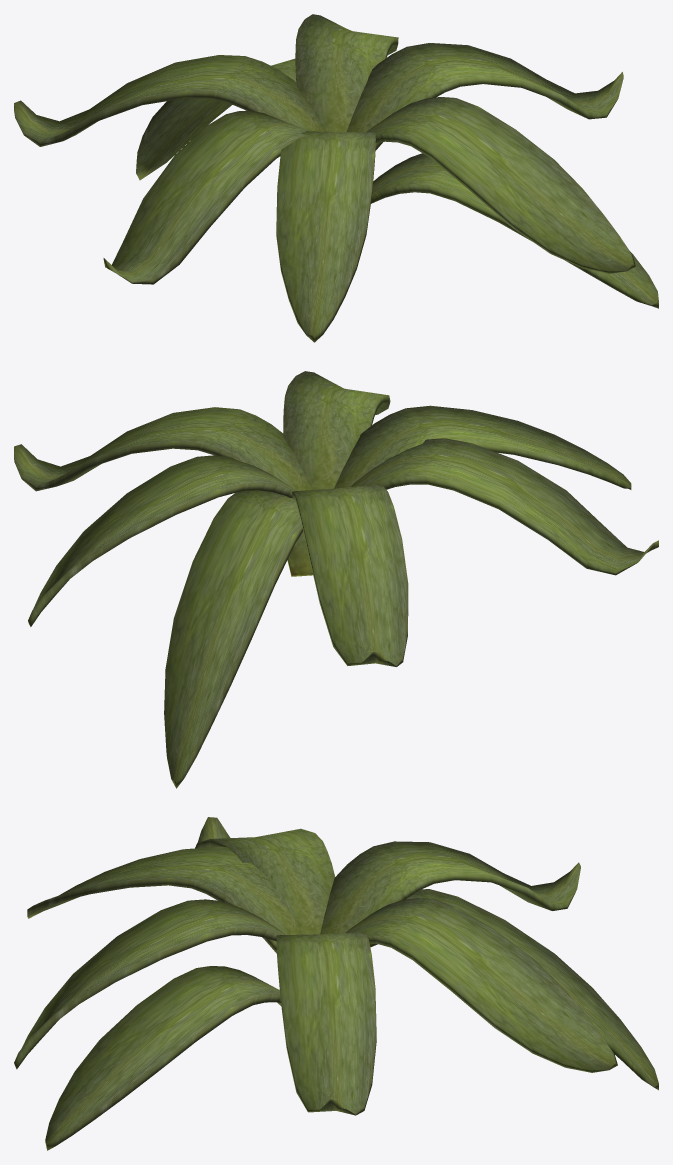
File: calyx8_1001.dae
3 renders of one model, top to bottom at view 1: azimuth 30°, elevation 25°; view 2: azimuth 150°, elevation 25°; view 3: azimuth 270°, elevation 25°, orthographic.
Parts seen in each view (by area): view 1: calyx8, calyx6_001, calyx7_003, calyx7_002, calyx7, calyx8_001, calyx6, calyx9; view 2: calyx9, calyx7_002, calyx7_003, calyx7, calyx8_001, calyx6_001, calyx8, calyx6; view 3: calyx8_001, calyx7, calyx6, calyx7_002, calyx8, calyx6_001, calyx7_003, calyx9.
Part boxes in pixels (x1,y1,x2,y2): calyx8: [366, 97, 635, 273]; calyx6_001: [276, 131, 375, 342]; calyx7_003: [103, 110, 310, 284]; calyx7_002: [14, 55, 324, 146]; calyx7: [346, 43, 623, 150]; calyx8_001: [295, 14, 398, 131]; calyx6: [371, 153, 658, 308]; calyx9: [136, 58, 296, 180]; calyx9: [164, 490, 302, 788]; calyx7_002: [292, 484, 408, 666]; calyx7_003: [351, 438, 658, 575]; calyx7: [14, 407, 312, 491]; calyx8_001: [28, 455, 296, 626]; calyx6_001: [334, 405, 631, 489]; calyx8: [283, 371, 390, 489]; calyx6: [287, 531, 312, 576]; calyx8_001: [345, 898, 617, 1072]; calyx7: [276, 932, 376, 1115]; calyx6: [45, 966, 281, 1150]; calyx7_002: [320, 841, 580, 934]; calyx8: [14, 899, 285, 1069]; calyx6_001: [27, 846, 302, 953]; calyx7_003: [195, 817, 334, 934]; calyx9: [370, 889, 658, 1090].
Size of the model in its own units: 0.13 by 0.1249 by 0.0455.
Materials: 8 (8 with a texture image).
